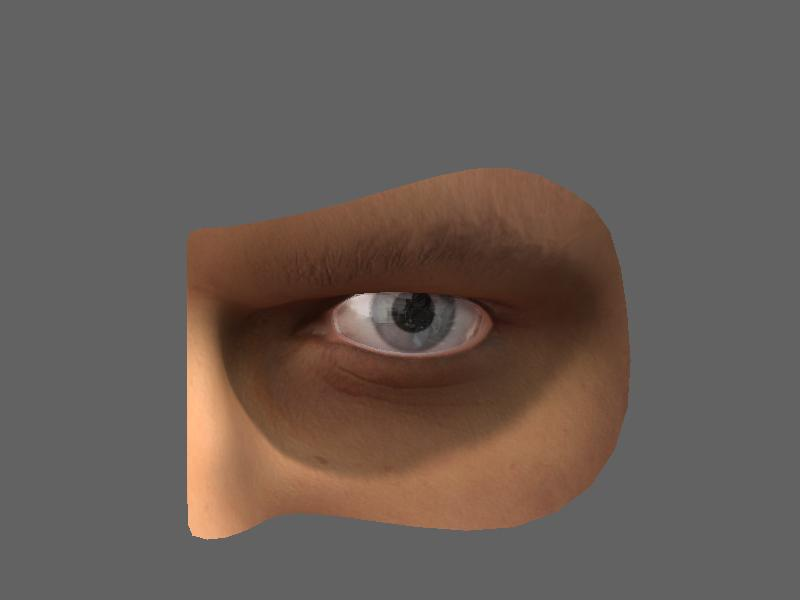iris: (367, 285, 460, 351)
